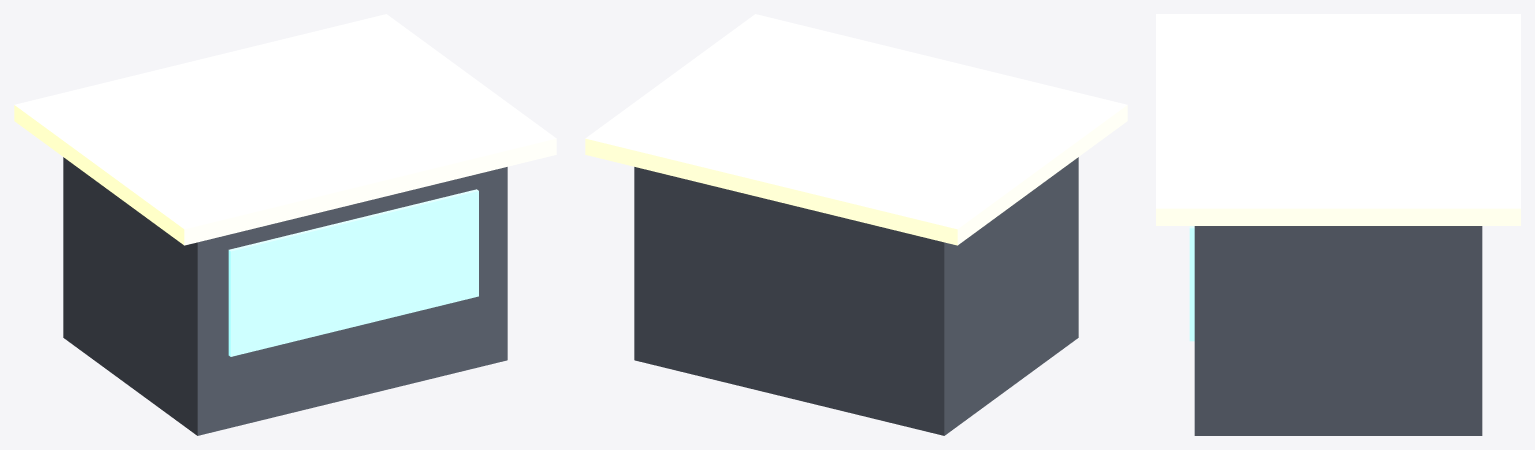
The model's file is quiosco.glb.
3 views of the same model, side by side, from view 1: azimuth 30°, elevation 25°; view 2: azimuth 150°, elevation 25°; view 3: azimuth 270°, elevation 25° (orthographic). The views are drawn at different scales.
Visible parts, largest first — view 1: quiosco; view 2: quiosco; view 3: quiosco.
Part boxes in pixels (left/top/right/bottom): quiosco: left=14, top=14, right=556, bottom=435; quiosco: left=585, top=14, right=1127, bottom=435; quiosco: left=1156, top=14, right=1520, bottom=435.
Bounding box in the file's own units: 4.8 × 2.8 × 3.8.
